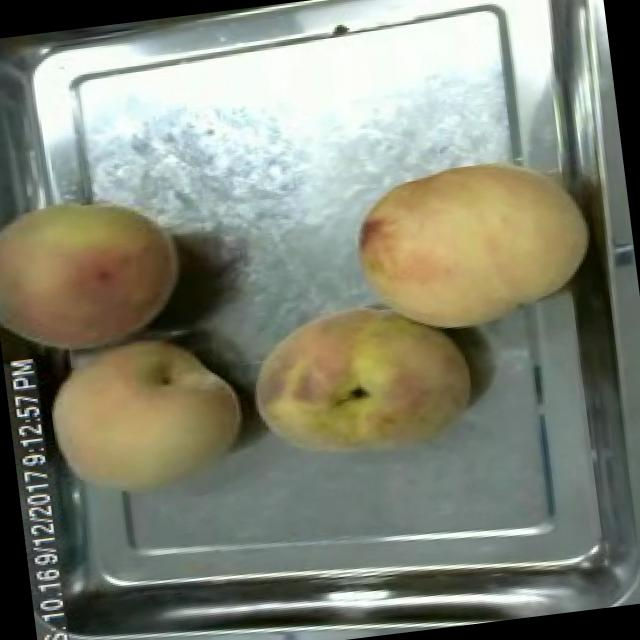Fruit: (338, 136, 610, 349), (237, 278, 486, 477), (28, 316, 262, 514), (0, 176, 197, 361)
